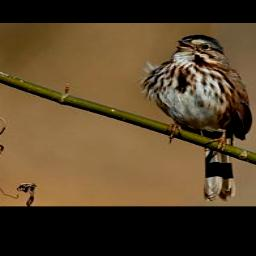Sparrow: (138, 34, 253, 202)
